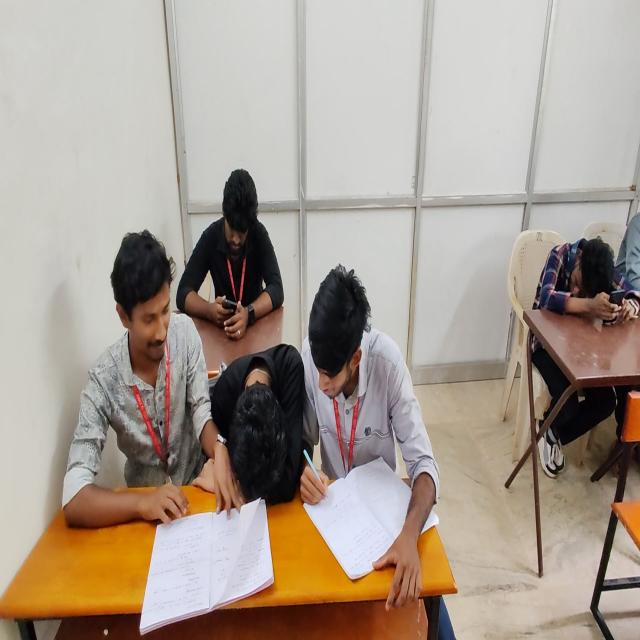reading: (63, 228, 238, 544)
sleeping: (214, 337, 310, 519)
using_mobile: (174, 147, 288, 352), (530, 195, 640, 355)
writing: (293, 243, 456, 629)
